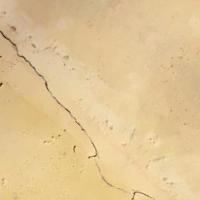crack: (1, 21, 107, 177)
